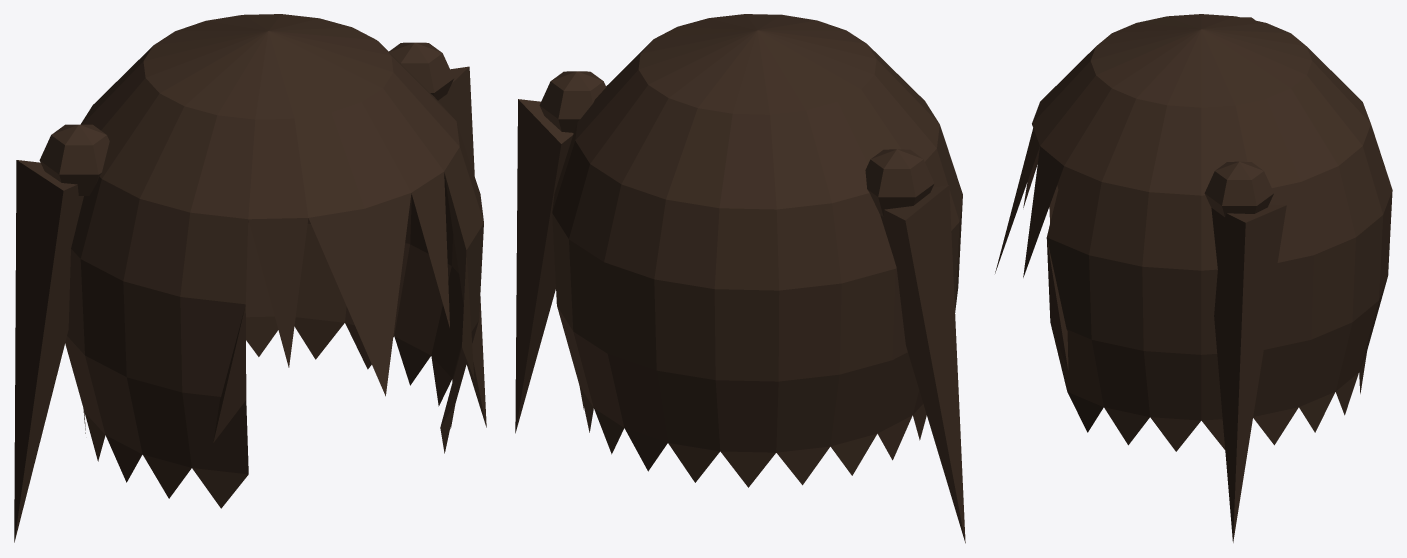
File: hair_twin.glb
The picture shows the model from 3 angles, left to right: view 1: azimuth 30°, elevation 25°; view 2: azimuth 150°, elevation 25°; view 3: azimuth 270°, elevation 25°; orthographic projection. The views are drawn at different scales.
Visible parts, largest first — view 1: hair; view 2: hair; view 3: hair.
Boxes of the visible parts, bbox=[...] form: hair: bbox=[14, 14, 486, 542]; hair: bbox=[515, 14, 965, 543]; hair: bbox=[995, 14, 1392, 542].
Bounding box in the file's own units: 0.76 × 0.72 × 0.629.
